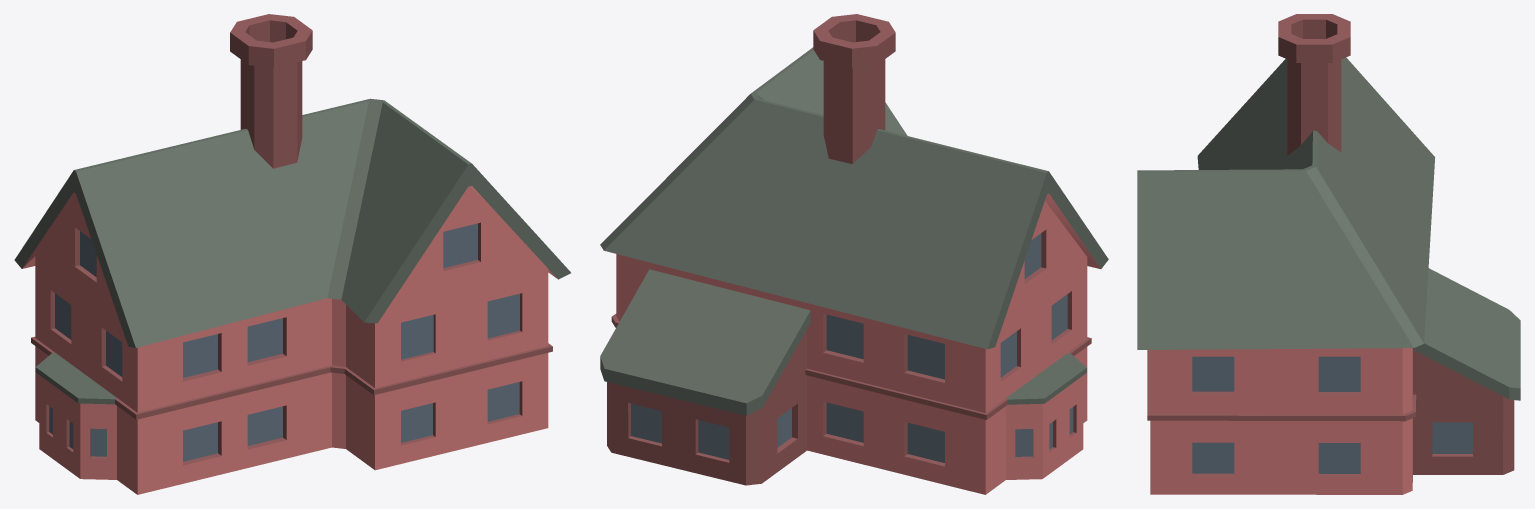
File: Cottage (1).glb
The picture shows the model from 3 angles, left to right: view 1: azimuth 30°, elevation 25°; view 2: azimuth 150°, elevation 25°; view 3: azimuth 270°, elevation 25°; orthographic projection. The views are drawn at different scales.
Visible parts, largest first — view 1: SM_Cottage; view 2: SM_Cottage; view 3: SM_Cottage.
Part boxes in pixels (bbox=[...]): SM_Cottage: bbox=[14, 14, 570, 494]; SM_Cottage: bbox=[600, 14, 1108, 494]; SM_Cottage: bbox=[1137, 14, 1520, 494].
Bounding box in the file's own units: 14.55 × 12.58 × 11.7.
